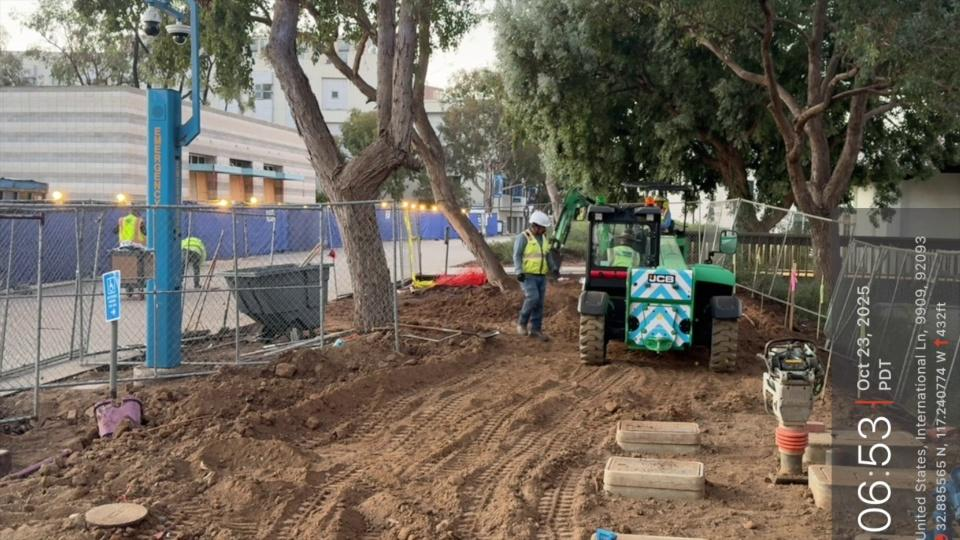Exacavator: (545, 180, 743, 372)
